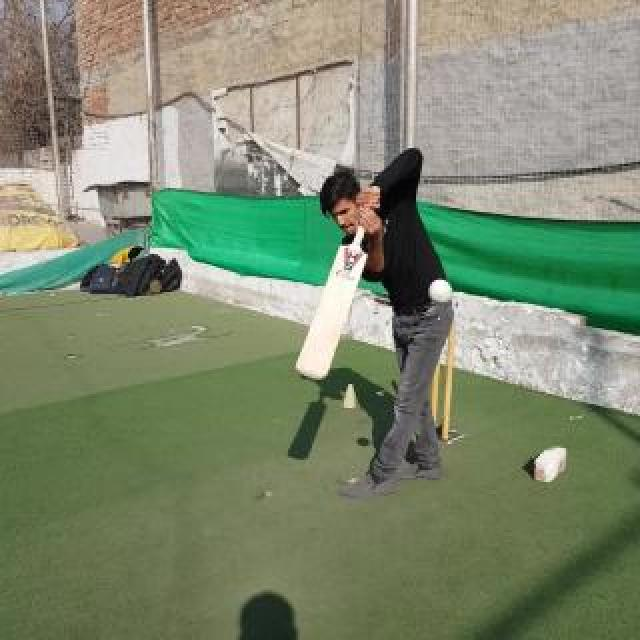ball: (429, 279, 453, 305)
bat: (296, 226, 368, 380)
